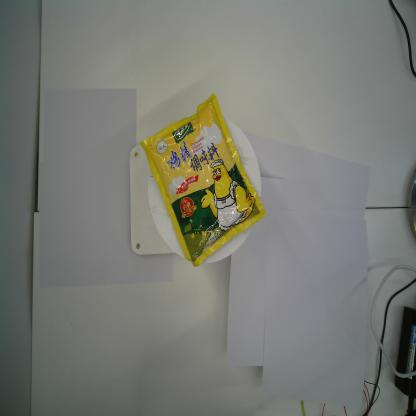Seasoner: (136, 90, 269, 269)
